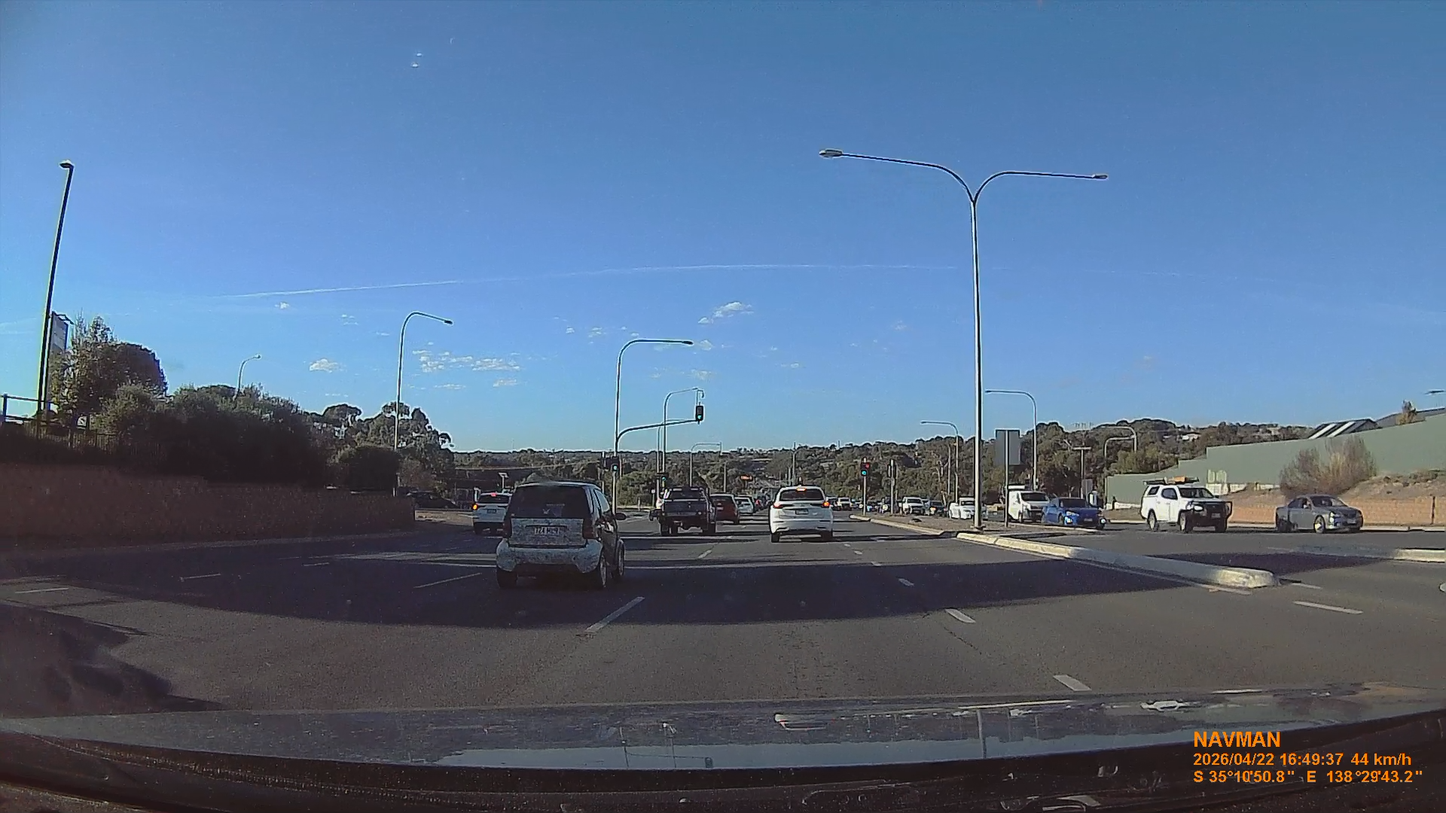fences: (0, 462, 414, 547), (1342, 477, 1445, 528)
